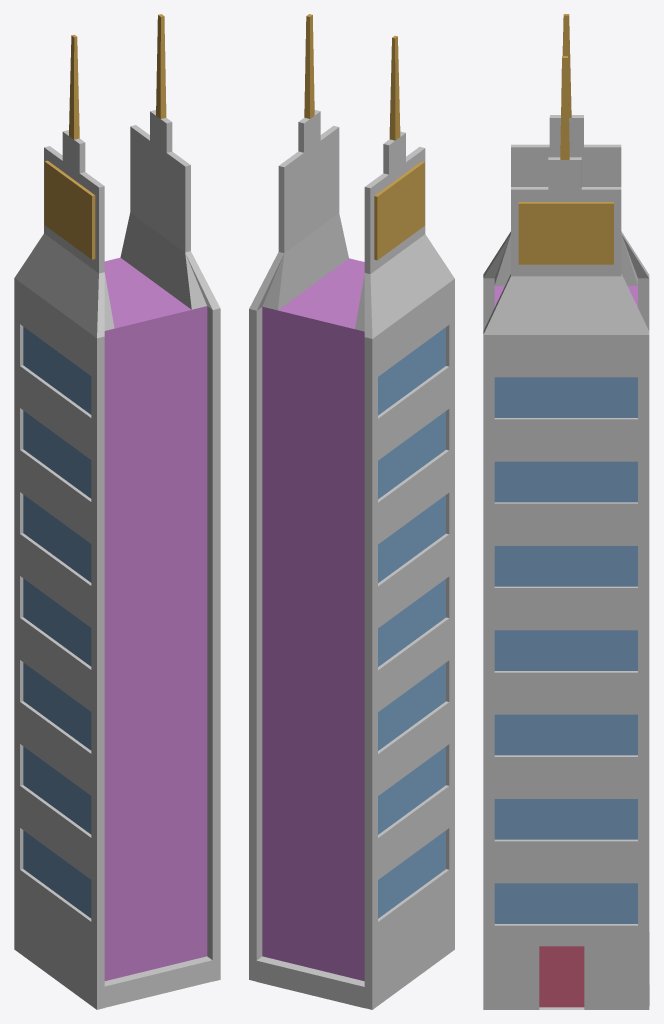
Rendered from Skyscraper1_1.fbx.
3 renders of one model, left to right at view 1: azimuth 30°, elevation 25°; view 2: azimuth 150°, elevation 25°; view 3: azimuth 270°, elevation 25°, orthographic.
Visible parts, largest first — view 1: Cube; view 2: Cube; view 3: Cube.
Part boxes in pixels (bbox=[...]): Cube: bbox=[14, 14, 220, 1009]; Cube: bbox=[249, 14, 454, 1009]; Cube: bbox=[483, 14, 649, 1009].
Size of the model in its own units: 191 by 1389 by 222.
